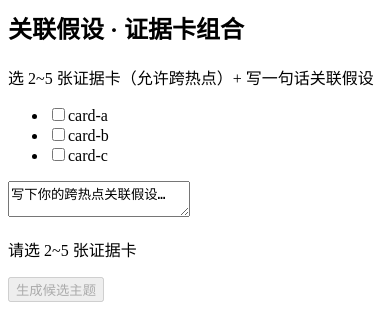
ComboEntryView combo 入口 › 选 2~5 卡 + 写假设 → submit 启用并回传 (跨簇允许)
This screenshot has width=390, height=319.
Later steps or results of the test are not shown.
Expected: the button "生成候选主题" is disabled, [8,277,104,302]
Click the checkbox labelled "card-a" at (58, 114), box [52,108,65,121]
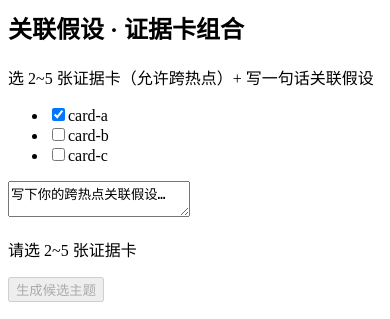
Click the checkbox labelled "card-b" at (58, 134), box [52,128,65,141]
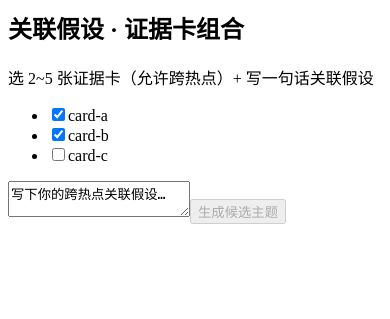
Expected: the button "生成候选主题" is disabled, [190,199,286,224]
Type "跨热点关联假设" into the text box with placeholder "写下你的跨热点关联假设…" at (99, 199), box [8,181,190,217]
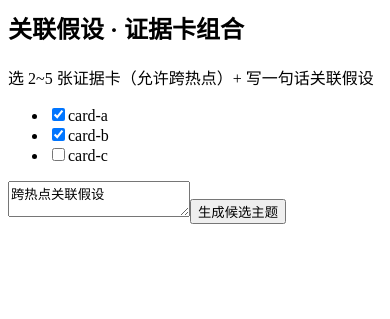
Expected: the button "生成候选主题" is enabled, [190,199,286,224]
